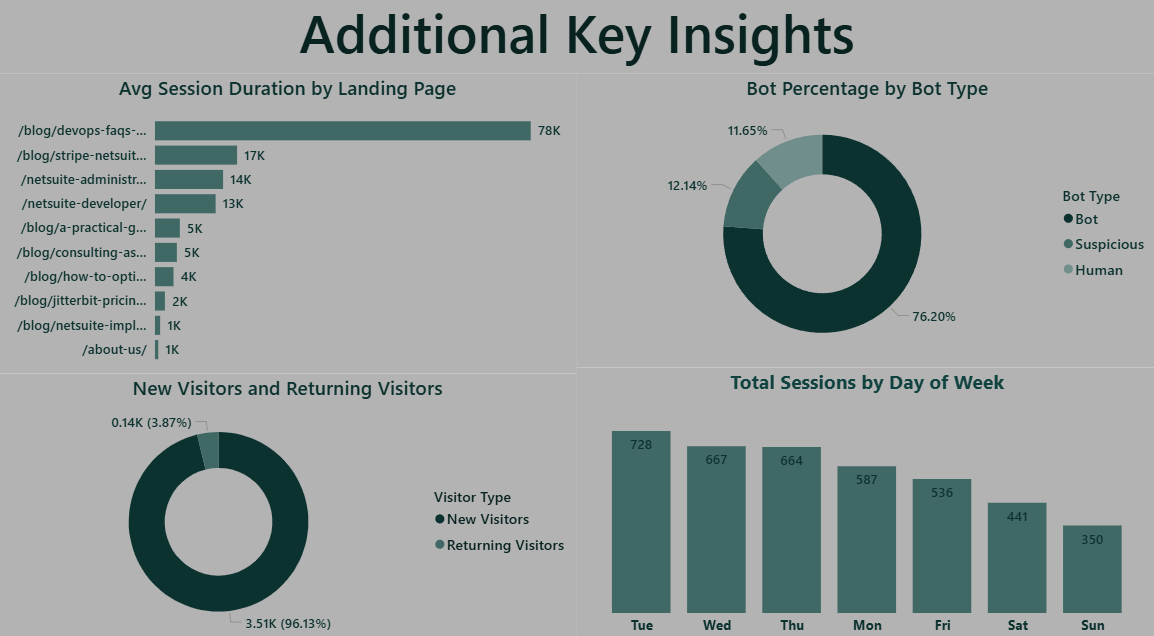

This screenshot's page, from the dashboard's own definition file:
{"tool":"powerbi","page":{"name":"Part 3","canvas":[1280,720],"ordinal":2},"visuals":[{"type":"barChart","title":"Avg Session Duration by Landing Page","fields":{"Category":["Session.landing_page"],"Y":["Session.Avg Session Duration"]},"box":[11.6,111,603,296.5],"z":0},{"type":"donutChart","fields":{"Category":["BotSignal.Bot Type"],"Y":["BotSignal.Bot Percentage"]},"box":[651,111,606.3,296.5],"z":1000},{"type":"donutChart","title":"New Visitors vs Returning Visitors","fields":{"Y":["Visitor.New Visitors","Visitor.Returning Visitors"]},"box":[11.6,434,603,275],"z":2000},{"type":"clusteredColumnChart","title":"Total Sessions by  Day of Week","fields":{"Category":["Date Table.Day Name"],"Y":["Session.Total Sessions"]},"box":[651,434,606.3,275],"z":3000},{"type":"textbox","box":[11.6,11.6,1245.7,79.5],"z":4000},{"type":"image","box":[14.2,12.2,99.2,79],"z":5000}]}

Visuals, with their boxes in screenshot pixels (x1, y1, x2, y2), scaled from the page's 1280x720 canvas onto the 1154x636 screenshot:
"Avg Session Duration by Landing Page" barChart: {"x1": 10, "y1": 98, "x2": 554, "y2": 360}
donutChart - BotSignal.Bot Type x BotSignal.Bot Percentage: {"x1": 587, "y1": 98, "x2": 1134, "y2": 360}
"New Visitors vs Returning Visitors" donutChart: {"x1": 10, "y1": 383, "x2": 554, "y2": 626}
"Total Sessions by  Day of Week" clusteredColumnChart: {"x1": 587, "y1": 383, "x2": 1134, "y2": 626}
textbox: {"x1": 10, "y1": 10, "x2": 1134, "y2": 80}
image: {"x1": 13, "y1": 11, "x2": 102, "y2": 81}
